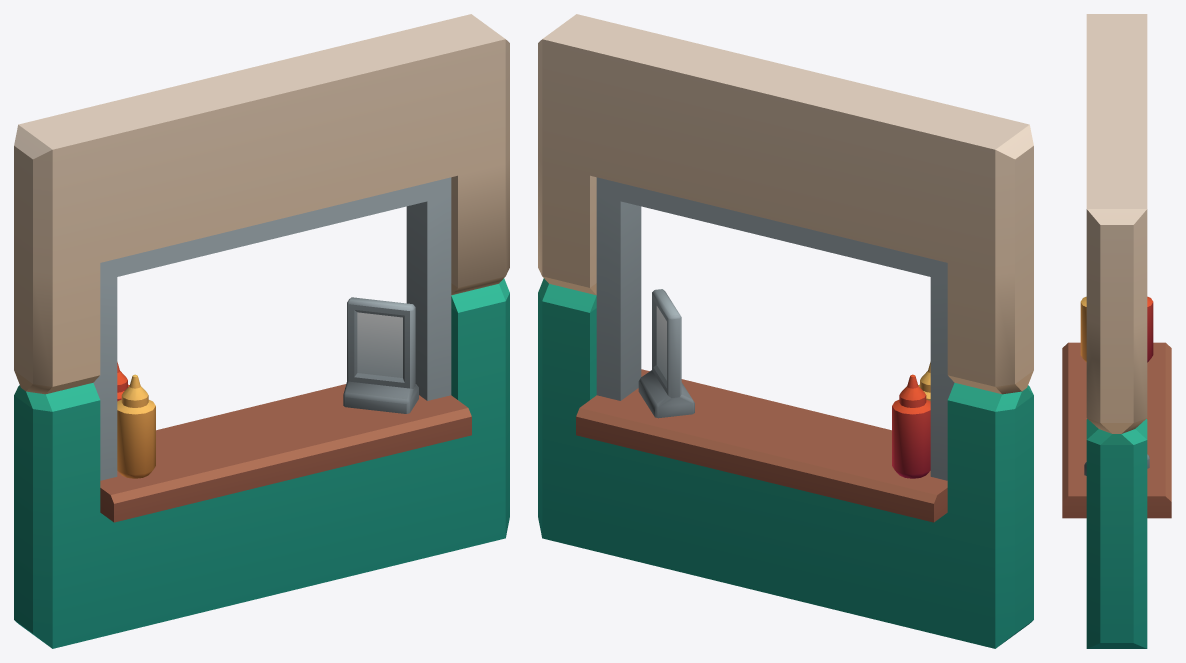
File: wall_orderwindow_decorated.obj
3 views of the same model, side by side, from view 1: azimuth 30°, elevation 25°; view 2: azimuth 150°, elevation 25°; view 3: azimuth 270°, elevation 25° (orthographic). The views are drawn at different scales.
Parts seen in each view (by area): view 1: wall_orderwindow_decorated_Cube.049; view 2: wall_orderwindow_decorated_Cube.049; view 3: wall_orderwindow_decorated_Cube.049.
Boxes of the visible parts, left/top/right/bottom form: wall_orderwindow_decorated_Cube.049: left=14, top=14, right=509, bottom=648; wall_orderwindow_decorated_Cube.049: left=538, top=14, right=1033, bottom=648; wall_orderwindow_decorated_Cube.049: left=1062, top=14, right=1171, bottom=648.
Bounding box in the file's own units: 4 × 4 × 0.9.
1 material, 1 textured.
